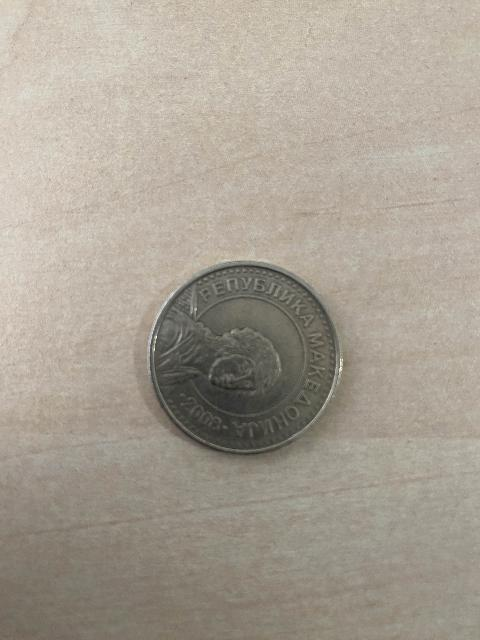50_coin: (140, 265, 346, 452)
